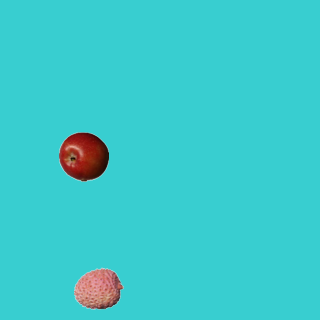Apple Braeburn: (58, 131, 108, 181)
Lychee: (73, 263, 123, 313)
